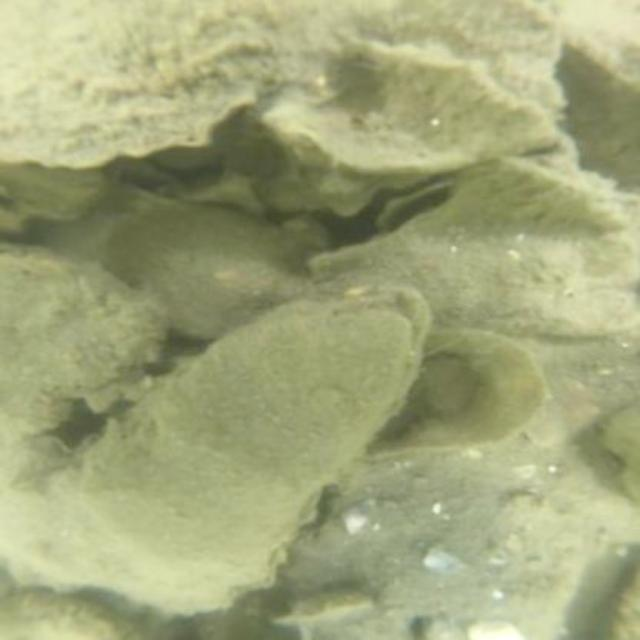Oyster-Closed: (53, 283, 438, 604), (0, 0, 579, 168), (312, 165, 631, 334), (247, 55, 583, 212), (0, 432, 237, 618), (5, 242, 164, 437), (353, 326, 555, 464), (103, 200, 299, 329), (446, 154, 630, 234)
Oyster-Open: (368, 171, 471, 242)
